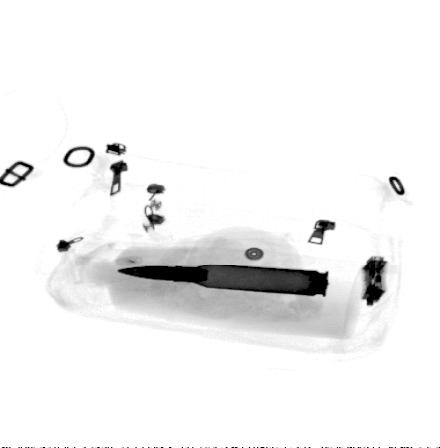Bullet: (115, 263, 330, 296)
